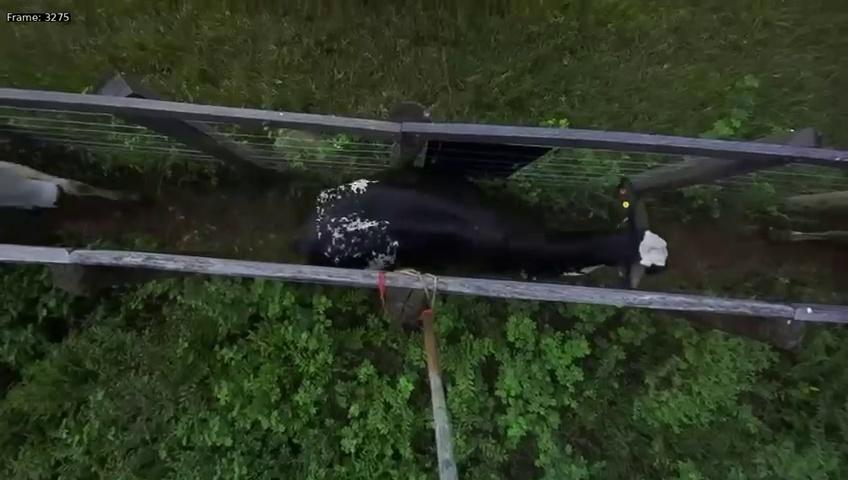cattle: (299, 153, 677, 293)
